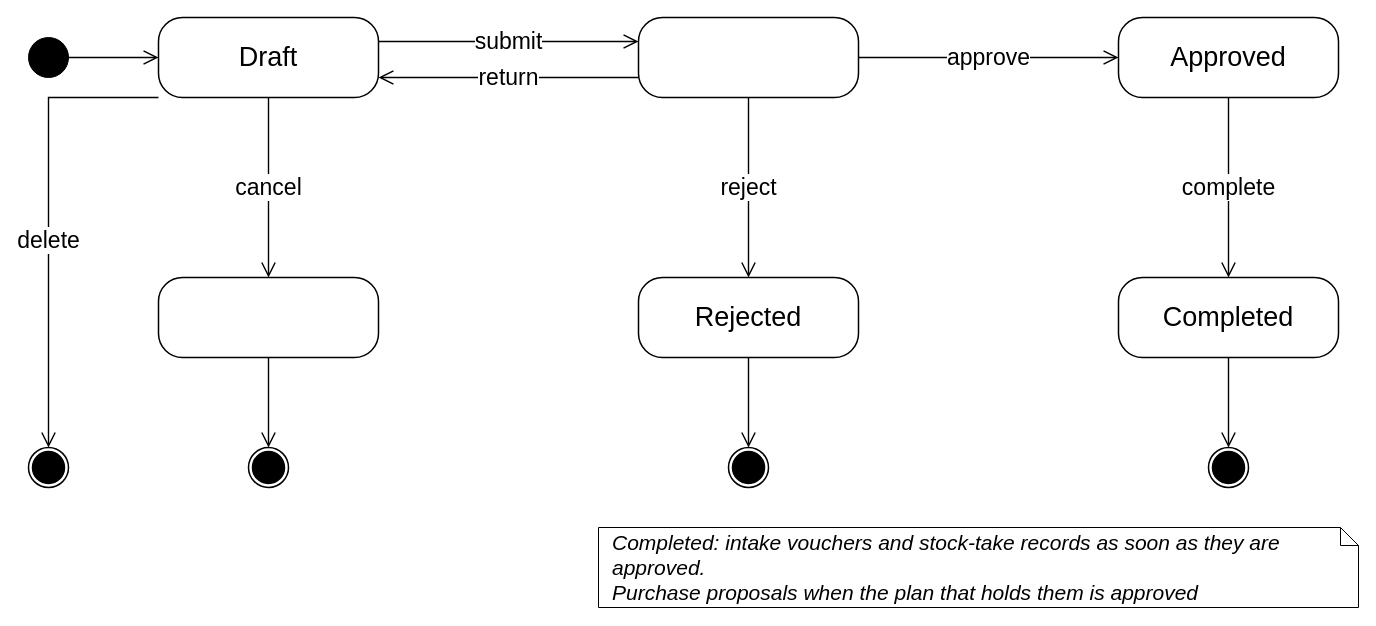
Some shapes in this 1376 by 626 pixel diagram are drawn without their labels. The shapes that lost their labels are listed below. From the top down, each one's centre as x and y in pixels, then its label:
the point at 748,57: Pending approval
the point at 268,317: Cancelled
